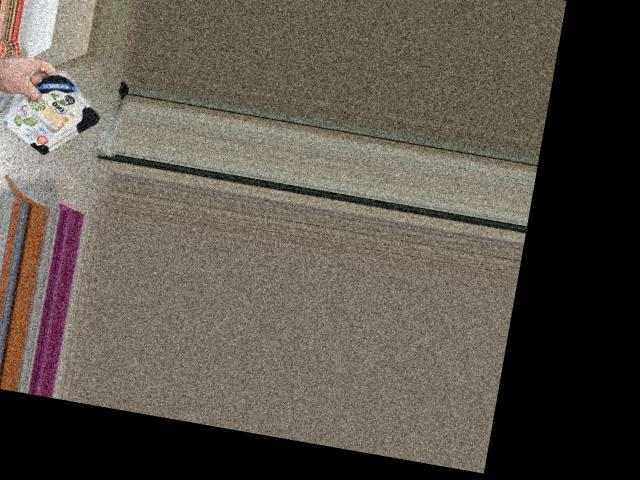cheese: (10, 46, 97, 166)
